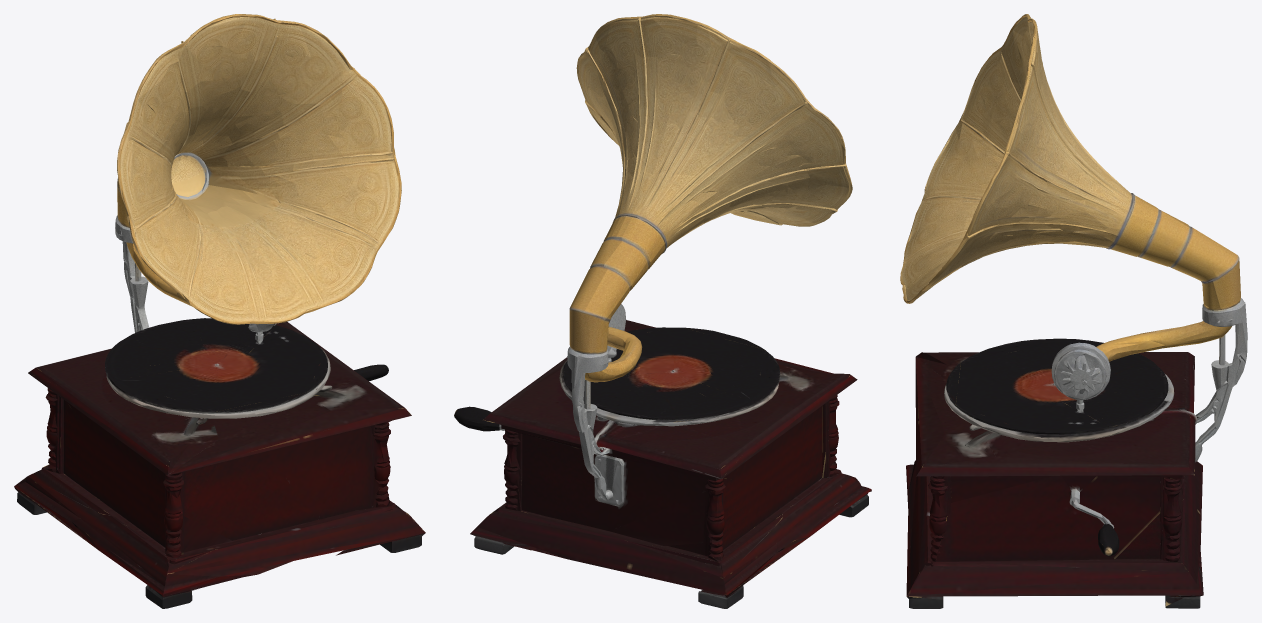
File: Meshy_AI_Vintage_Gramophone_20261110_texture_remesh_tri.fbx
The picture shows the model from 3 angles, left to right: view 1: azimuth 30°, elevation 25°; view 2: azimuth 150°, elevation 25°; view 3: azimuth 270°, elevation 25°; orthographic projection. The views are drawn at different scales.
Visible parts, largest first — view 1: output_unwrapped; view 2: output_unwrapped; view 3: output_unwrapped.
Boxes of the visible parts, x1=… form: output_unwrapped: x1=14, y1=14, x2=425, y2=608; output_unwrapped: x1=454, y1=14, x2=871, y2=608; output_unwrapped: x1=900, y1=14, x2=1247, y2=608.
Size of the model in its own units: 128 by 190 by 116.
1 material, 1 textured.
